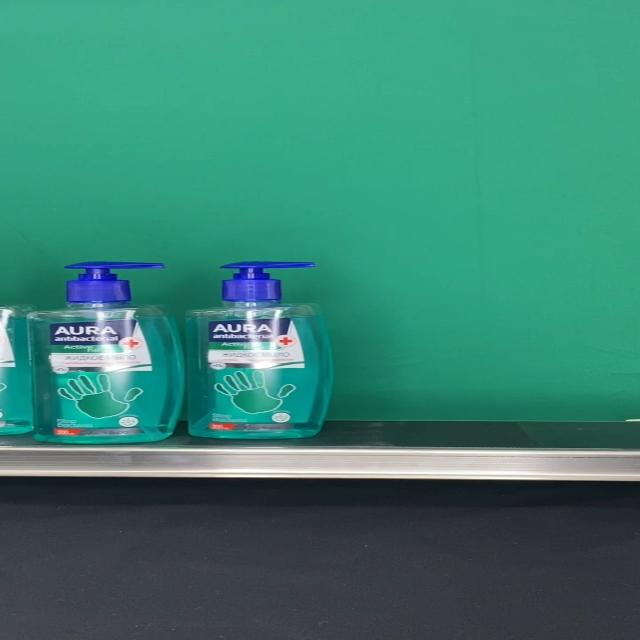Bottle: (29, 262, 185, 442), (187, 262, 334, 438)
Cap: (64, 262, 163, 302), (220, 261, 316, 301)
